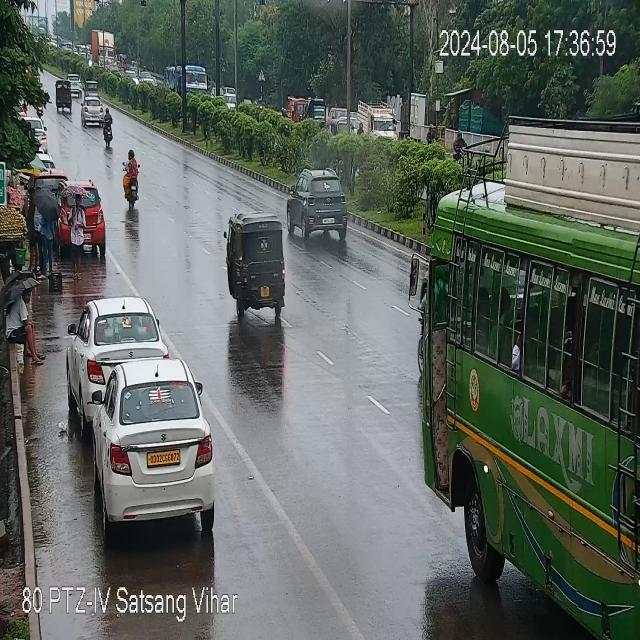2-wheelers: (120, 148, 144, 207), (101, 114, 118, 144)
auto: (228, 216, 290, 313), (61, 182, 108, 249), (56, 82, 76, 115), (326, 115, 352, 135)
bus: (412, 113, 640, 638), (164, 61, 208, 99)
car: (80, 358, 217, 529), (71, 297, 165, 399), (293, 174, 351, 243), (82, 98, 110, 124), (34, 118, 49, 154), (68, 72, 82, 95), (84, 80, 100, 96)
pedestrian: (5, 286, 42, 362), (26, 184, 56, 270), (72, 196, 86, 274)
truck: (360, 107, 394, 140), (92, 33, 115, 66)
